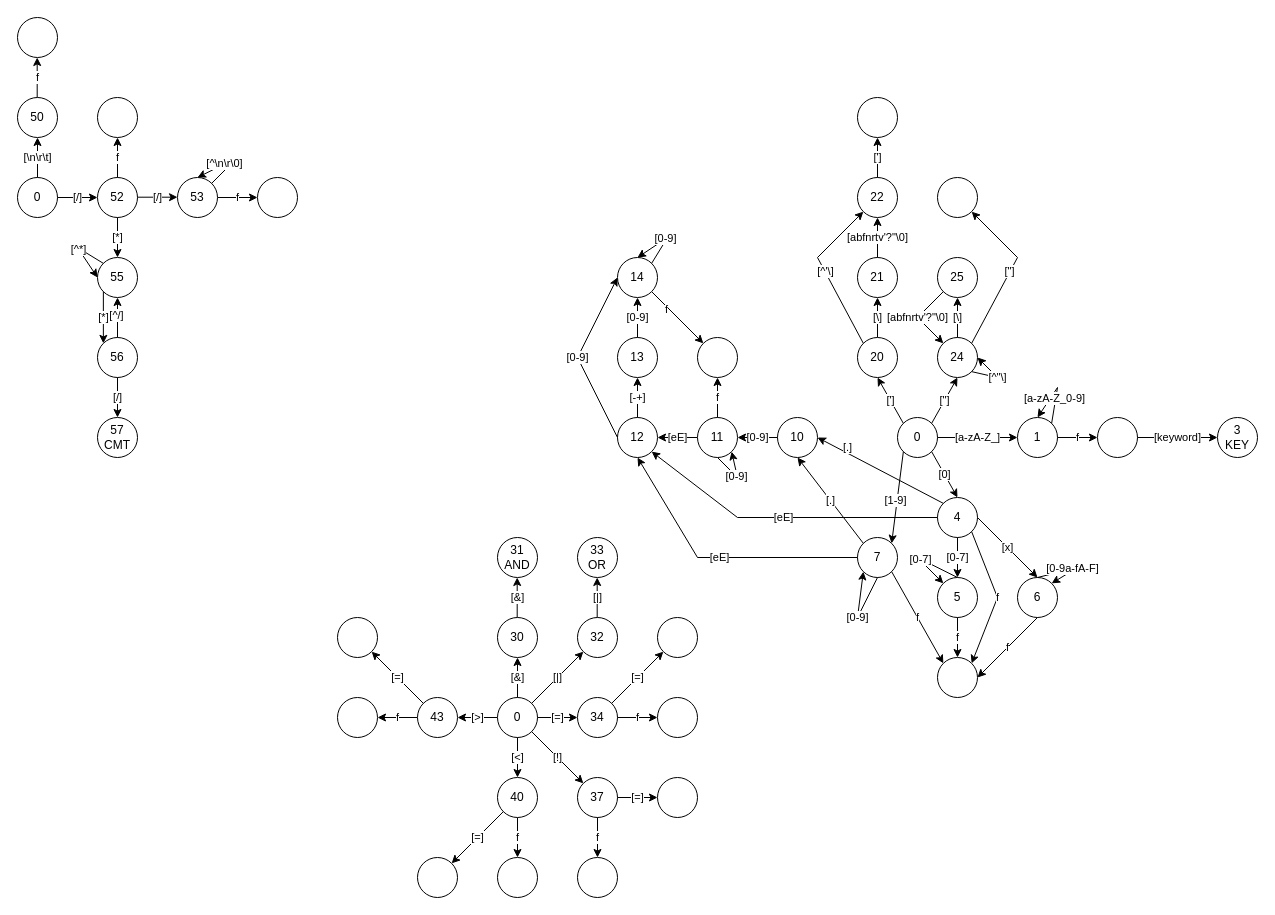
Image size: 1275x915. Some labels were removed from this diagram. The shapes that lost their labels are listed below. From the top down, each one's box as (x1, y1, x2, y2) in pixels, then its label:
(16, 16, 58, 58): 51 SPC
(96, 96, 138, 138): 58 DIV
(856, 96, 898, 138): 23 CHAR
(256, 176, 298, 218): 54 LCMT
(936, 176, 978, 218): 26 STR
(696, 336, 738, 378): 15 REAL
(1096, 416, 1138, 458): 2 ID
(336, 616, 378, 658): 45 GREQ
(656, 616, 698, 658): 35 ASGN
(936, 656, 978, 698): 8 INT
(336, 696, 378, 738): 44 GR
(656, 696, 698, 738): 36 EQ
(656, 776, 698, 818): 38 NEQ
(416, 856, 458, 898): 42 LSEQ
(496, 856, 538, 898): 41 LS
(576, 856, 618, 898): 39 NOT
